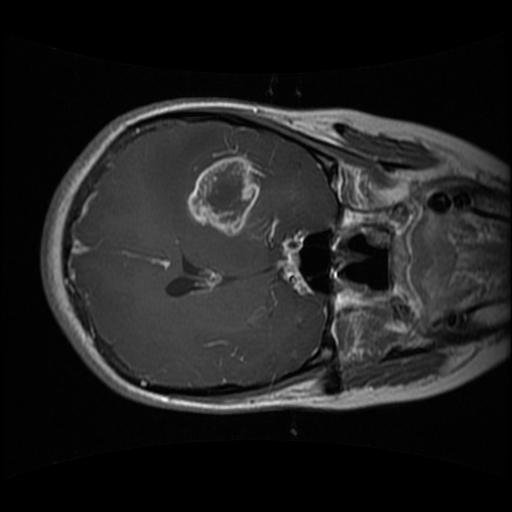glioma: (181, 142, 270, 242)
